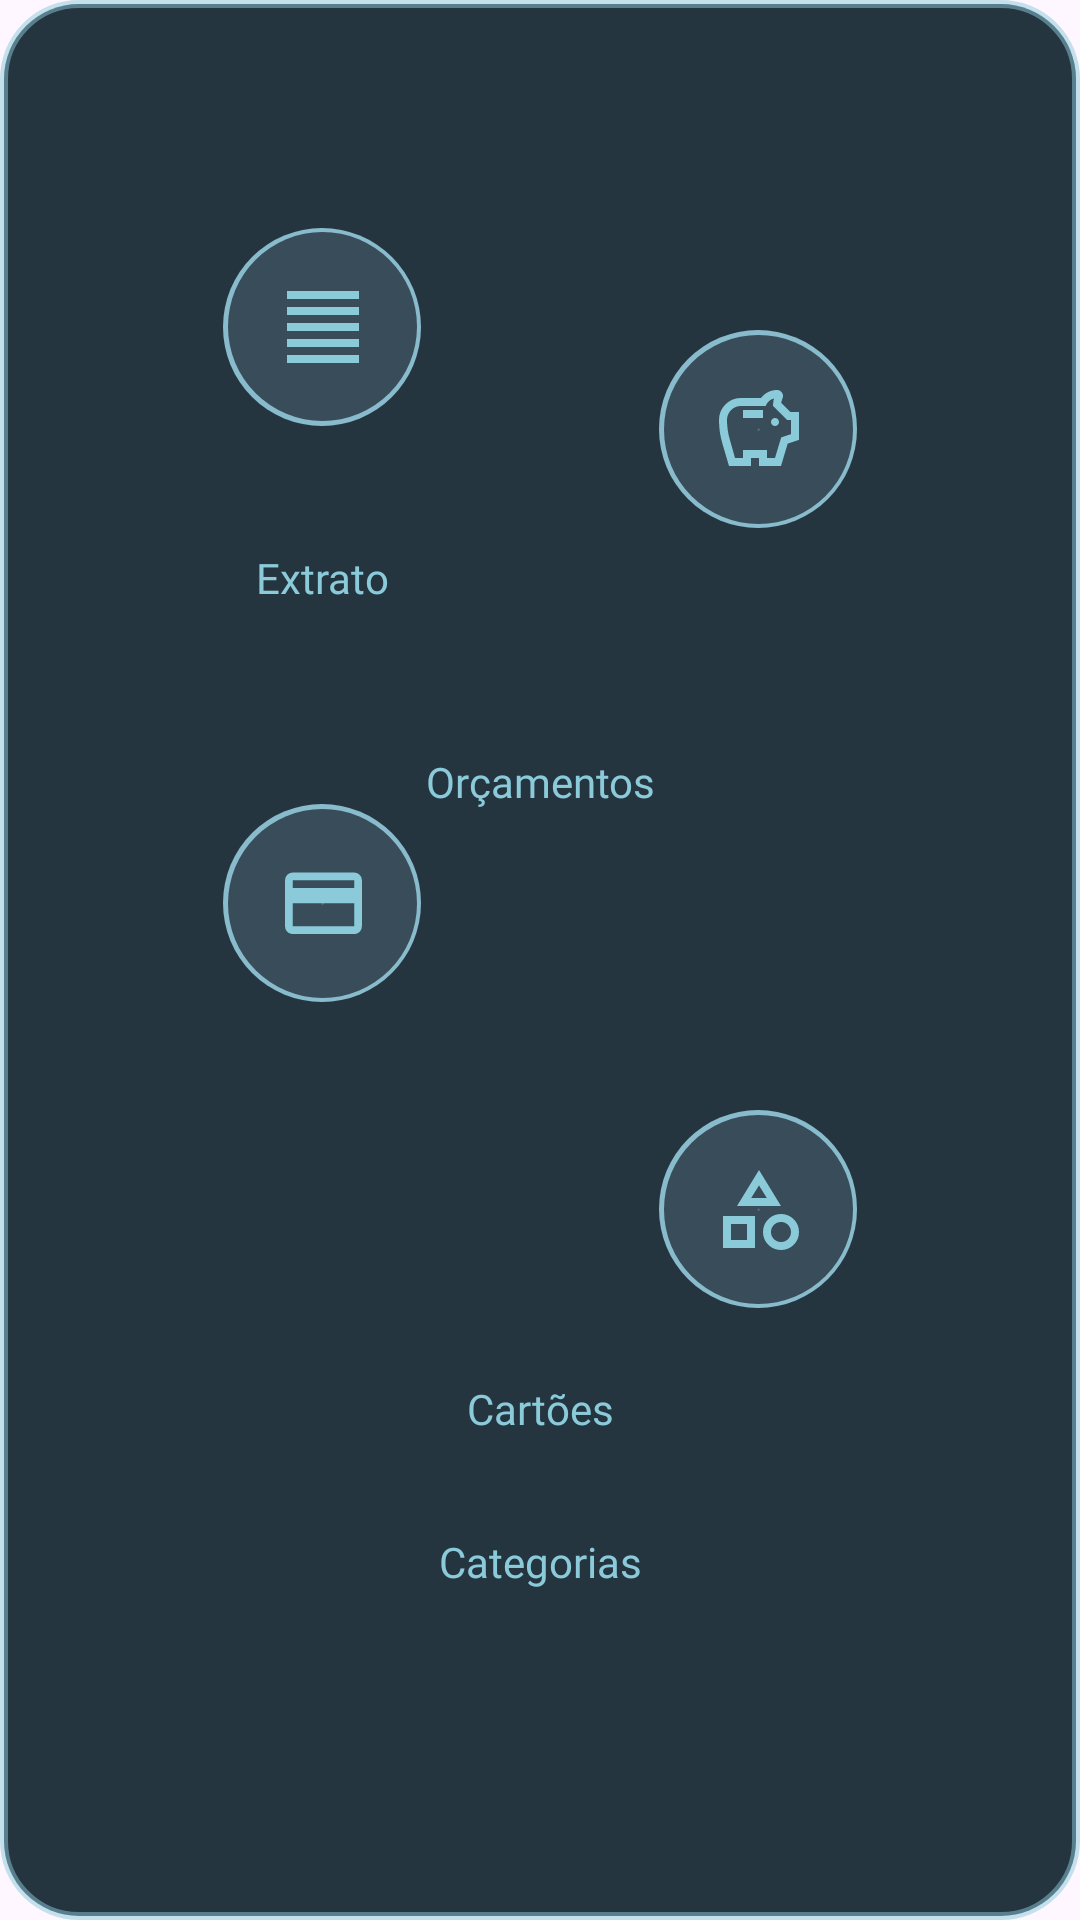

Icons on this 1080×1920 Android screen, each with its box as (x1, y1, x2, y2):
category: (664, 1115, 853, 1304)
credit card: (228, 809, 417, 998)
extract: (228, 232, 417, 421)
savings: (664, 335, 853, 524)
